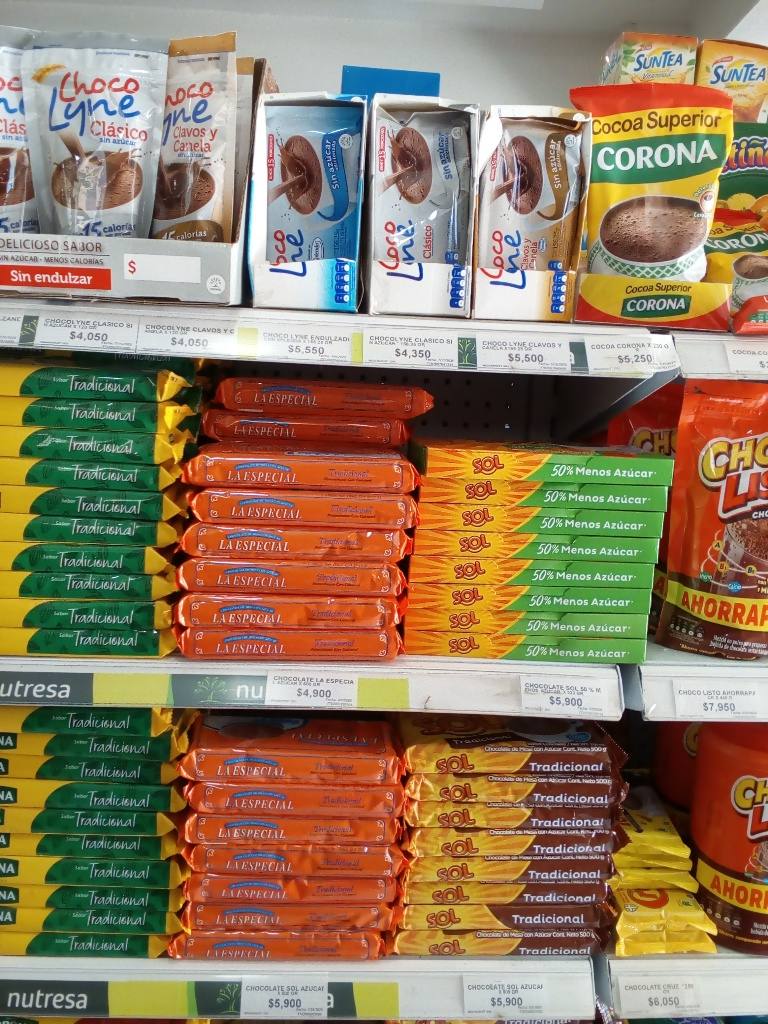COL0170103DYP40000: (656, 375, 768, 663)
COL0170103TRR00100: (684, 723, 766, 953)
